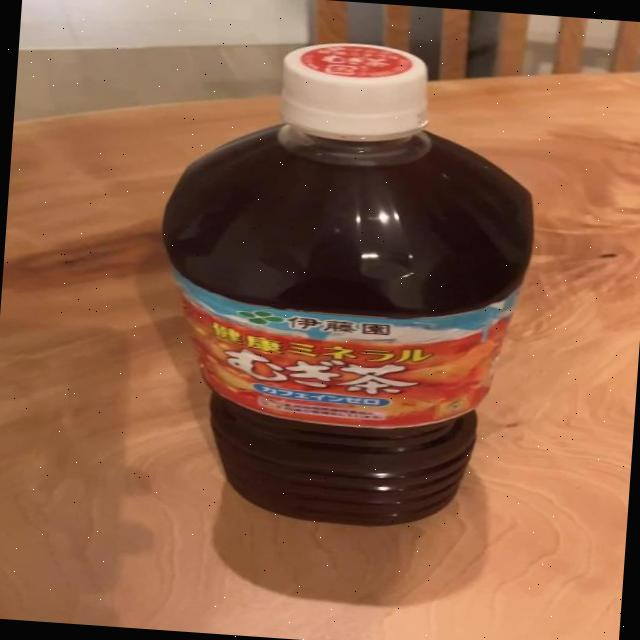bottle: (136, 30, 546, 538)
cap: (262, 22, 447, 148)
label: (146, 271, 520, 430)
